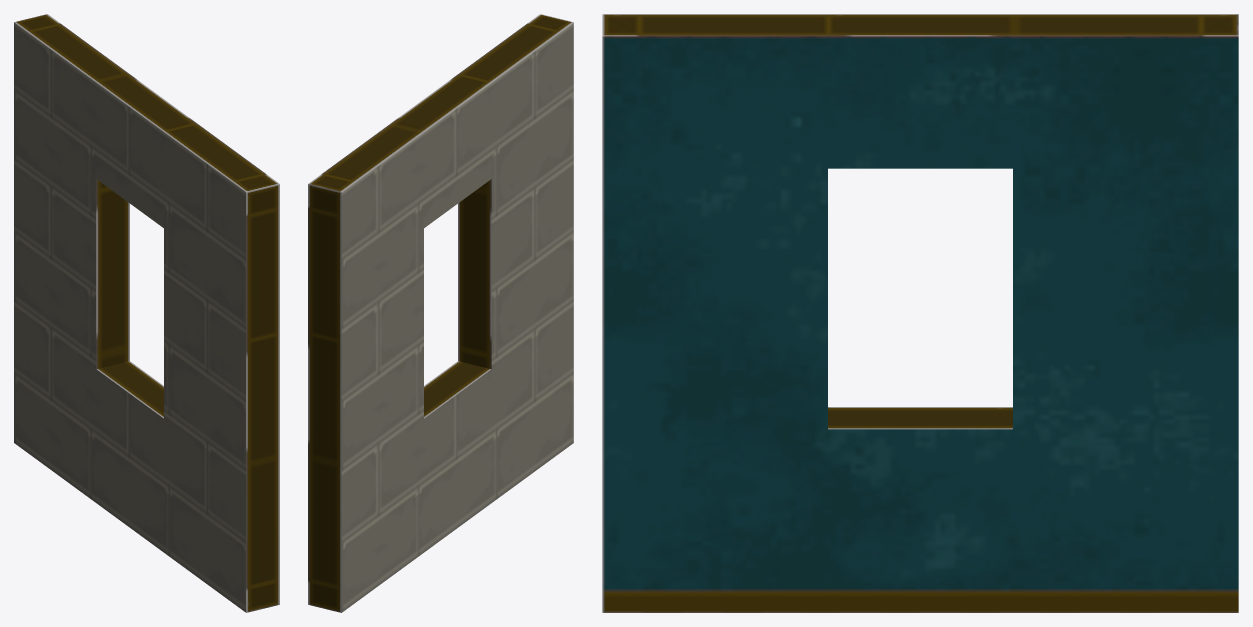
The model's file is Wall_Window_09.fbx.
3 views of the same model, side by side, from view 1: azimuth 30°, elevation 25°; view 2: azimuth 150°, elevation 25°; view 3: azimuth 270°, elevation 25° (orthographic). The views are drawn at different scales.
Visible parts, largest first — view 1: Wall_Window_09; view 2: Wall_Window_09; view 3: Wall_Window_09.
Boxes of the visible parts, x1,y1,x2,y2 form: Wall_Window_09: (14, 14, 279, 612); Wall_Window_09: (308, 14, 573, 612); Wall_Window_09: (602, 14, 1238, 612).
Bounding box in the file's own units: 50 × 600 × 600.
